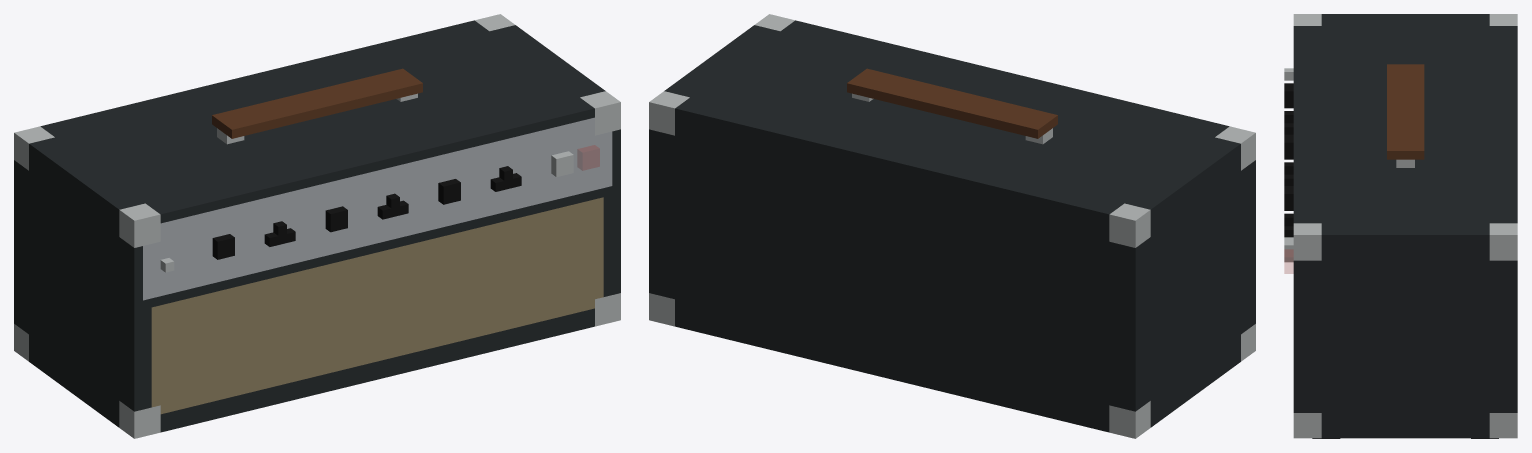
Rendered from amplifier_head.glb.
The picture shows the model from 3 angles, left to right: view 1: azimuth 30°, elevation 25°; view 2: azimuth 150°, elevation 25°; view 3: azimuth 270°, elevation 25°; orthographic projection. The views are drawn at different scales.
Parts seen in each view (by area): view 1: amplifier_head:compound; view 2: amplifier_head:compound; view 3: amplifier_head:compound.
Part boxes in pixels (x1,y1,x2,y2): amplifier_head:compound: (14,14,620,438); amplifier_head:compound: (649,14,1255,438); amplifier_head:compound: (1284,14,1517,438).
Size of the model in its own units: 0.56 by 0.27 by 0.25.
